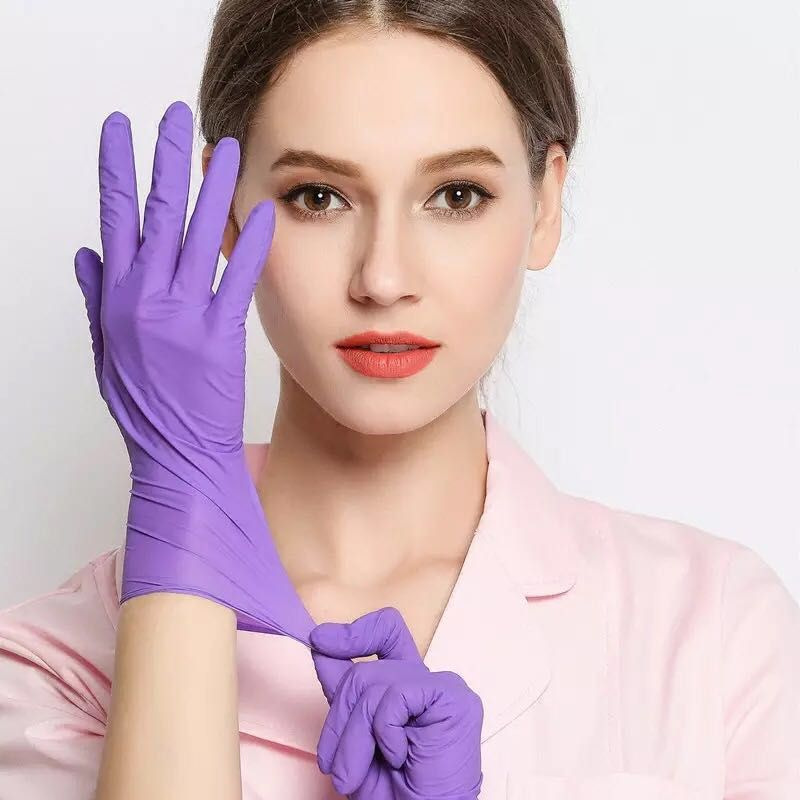glove: (71, 99, 278, 474), (306, 602, 489, 800)
